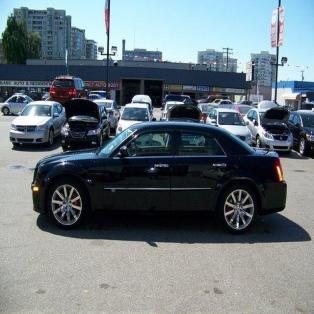Auto: (30, 119, 288, 238)
